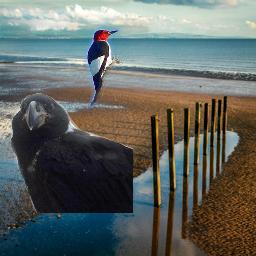Crow: (9, 93, 133, 213)
Woodpecker: (80, 24, 123, 107)
